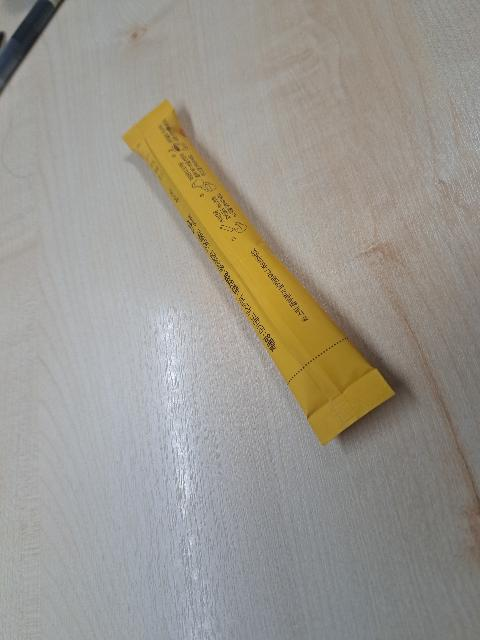mix_coffee: (111, 91, 406, 457)
